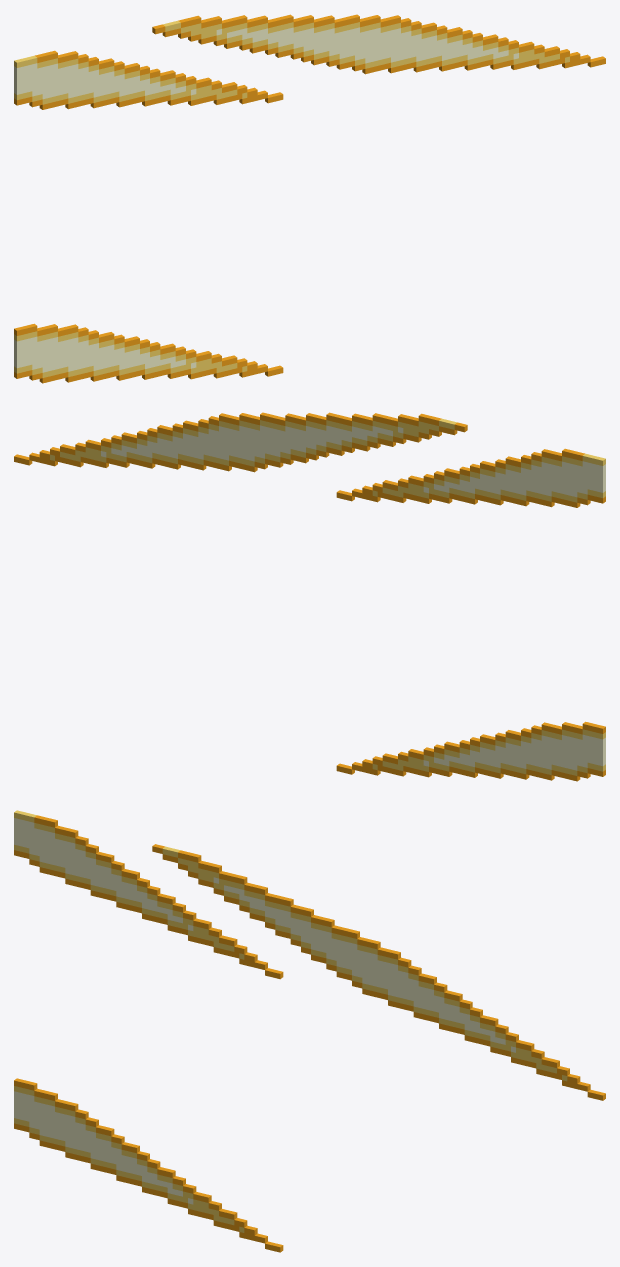
The model's file is Fight_101_2_06_fx.obj.
3 renders of one model, top to bottom at view 1: azimuth 30°, elevation 25°; view 2: azimuth 150°, elevation 25°; view 3: azimuth 330°, elevation 25°, orthographic.
Size of the model in its own units: 11.5 by 7 by 0.1.
